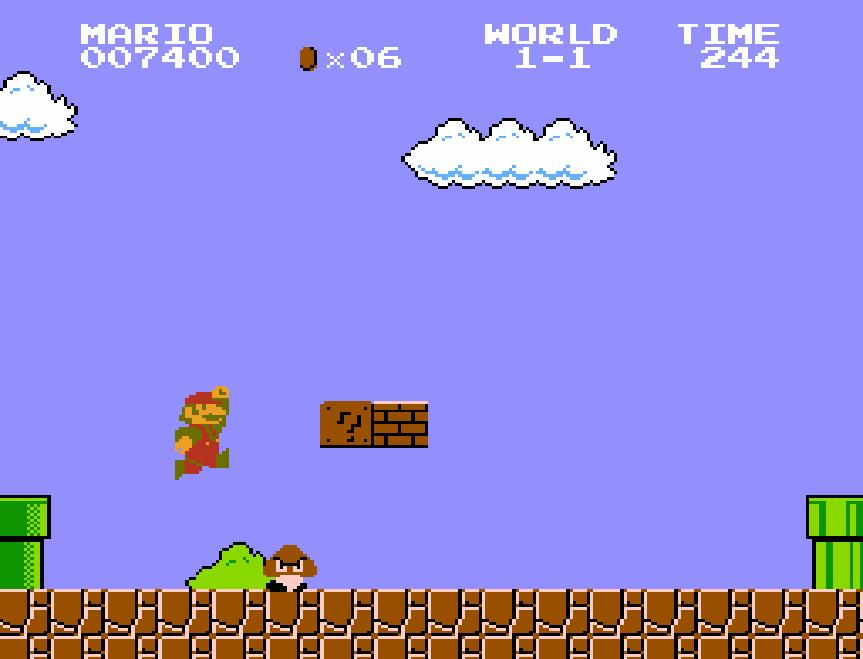big_mario: (172, 384, 230, 482)
